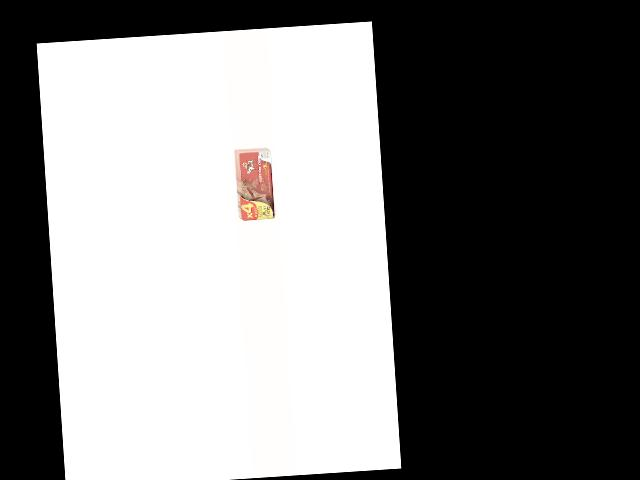chocolate: (234, 148, 277, 222)
